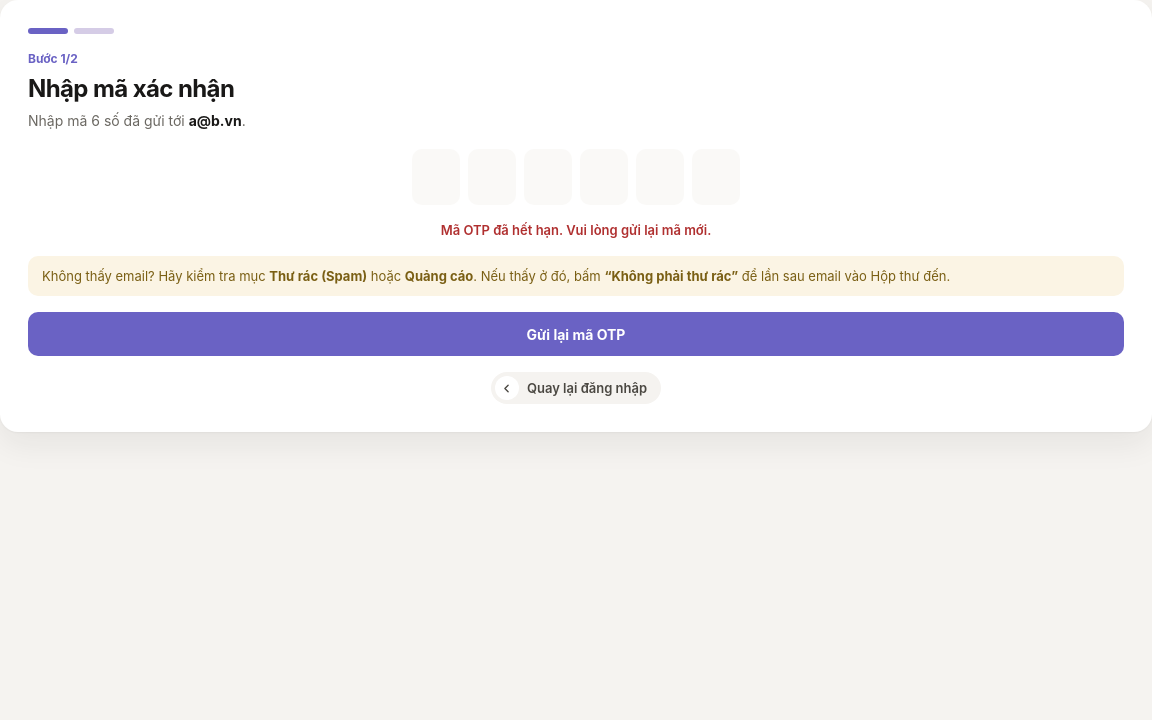
Test: ResetPasswordPage (OTP 2 bước) › hết hạn ⇒ khoá ô OTP, 'Gửi lại mã OTP' gọi forgot-password và đếm lại
Click the button "Gửi lại mã OTP" at (576, 334), box [28,312,1124,356]
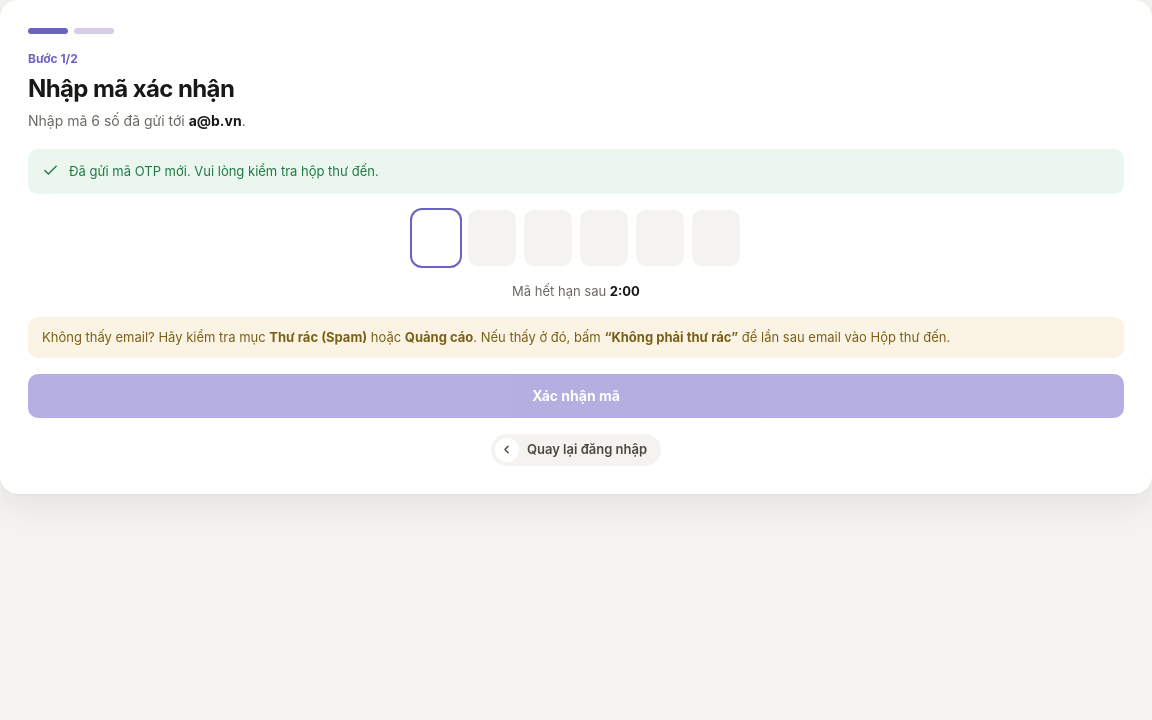
Result: the text "Mã hết hạn sau 2:00" is shown at [512,283,640,299]
Result: the field named "Chữ số thứ" is enabled at [412,210,460,266]
